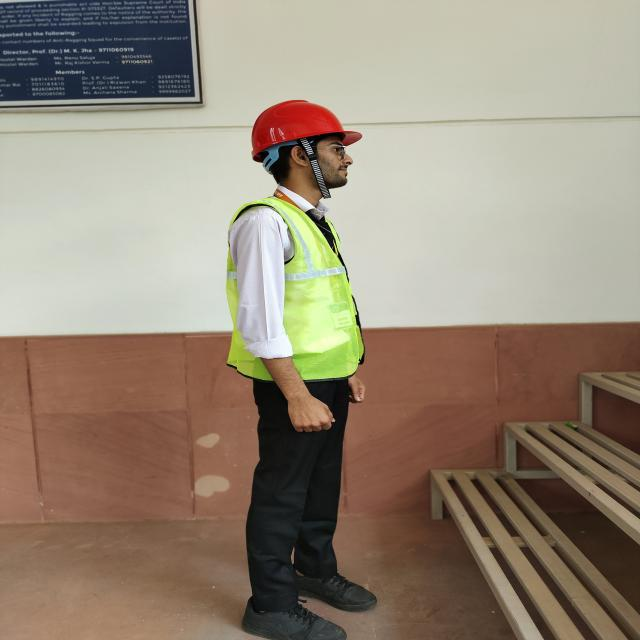safe: (226, 99, 377, 640)
